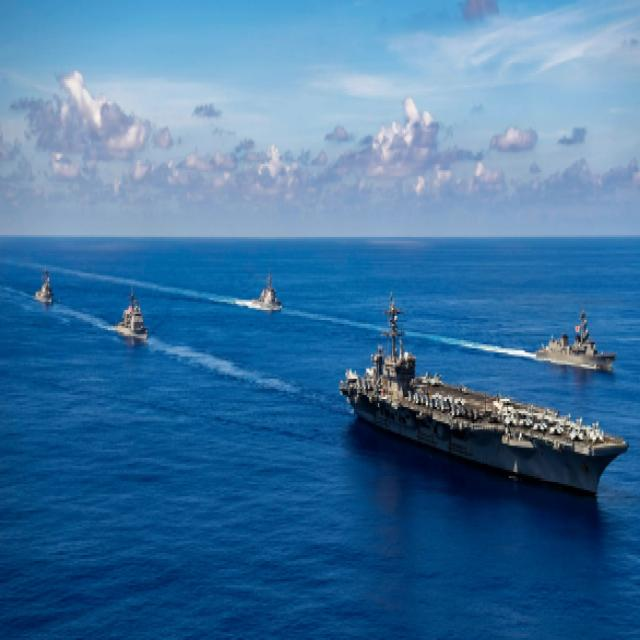navalvessels: (334, 294, 626, 495), (529, 298, 615, 378), (116, 285, 152, 339), (250, 268, 283, 319), (31, 253, 59, 306)
